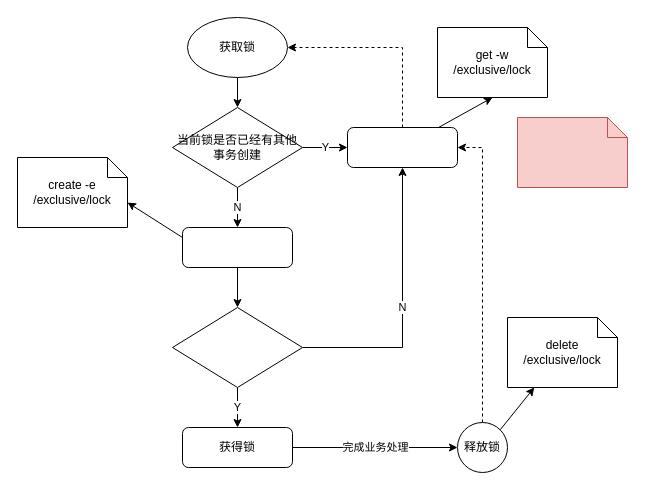
Image size: 645x490. Some labels were removed from this diagram. The shapes that lost their labels are listed below. From the top down, each one's centre as x and y in pixels, then its label:
At pixel 402 147: "监听/等待".
At pixel 572 152: "羊群效应： 1.非公平锁； 2.争抢资源导致性能下降；".
At pixel 237 247: "创建/exclusive/lock".
At pixel 237 347: "是否创建成功".
